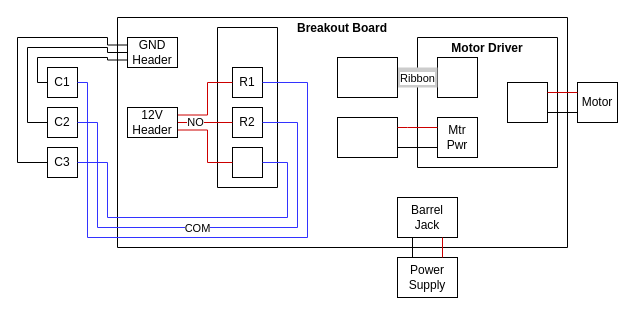
This 635x315 diagram has some shape labels left out. Here are the shapes that lost their labels. From the top down, the box of each, then its label:
(336, 56, 398, 98): Mtr Logic Header
(436, 56, 478, 98): Mtr Logic
(216, 26, 278, 188): Relay Board
(506, 82, 548, 122): Mtr Output
(336, 116, 398, 158): Mtr Driver Header
(232, 146, 262, 178): R3
